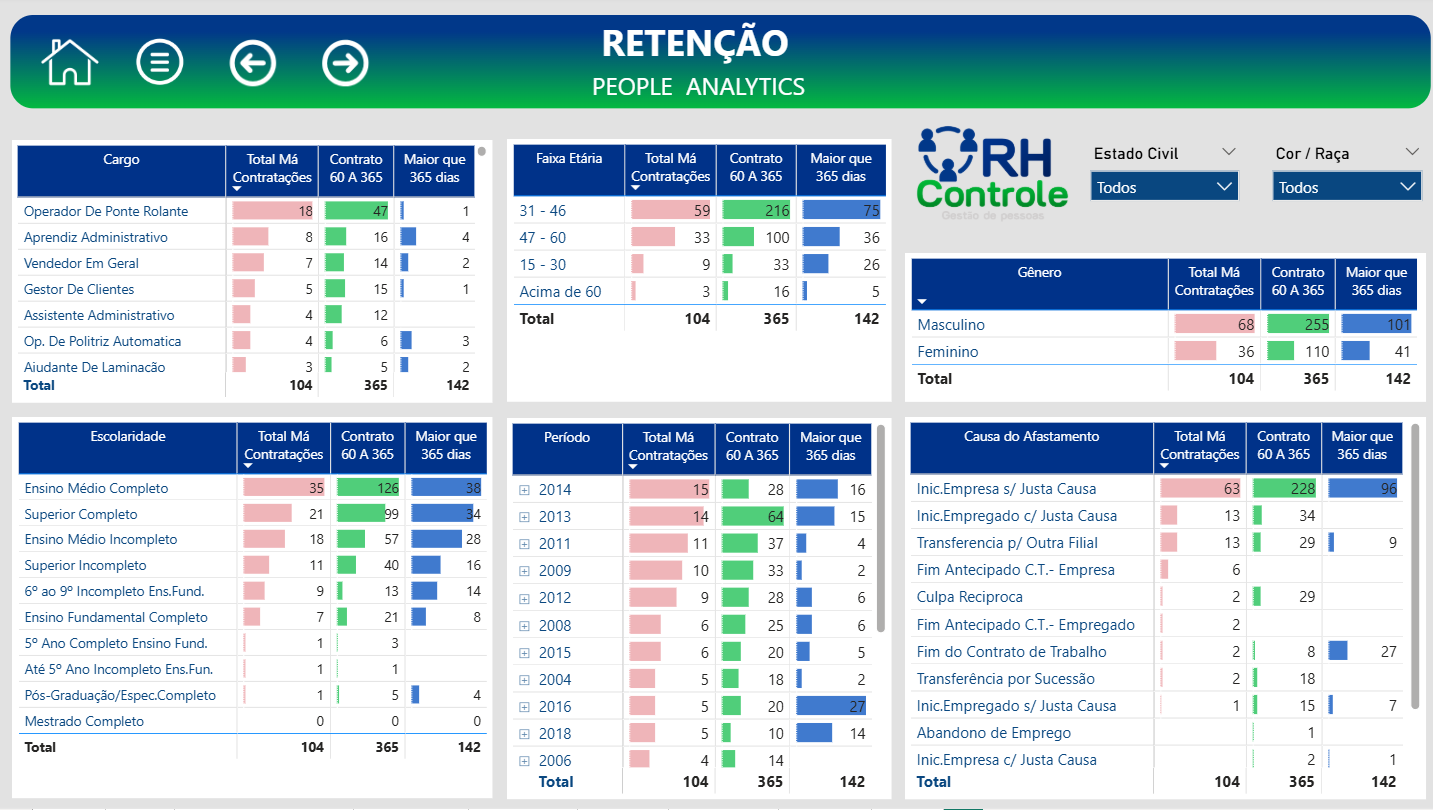

This screenshot's page, from the dashboard's own definition file:
{"tool":"powerbi","page":{"name":"Retenção","canvas":[1280,720],"ordinal":5},"visuals":[{"type":"tableEx","fields":{"Values":["dSexo.SEXO","Medidas_Funcionarios.Total Má Contratações","Medidas_Funcionarios.Contrato 60 A 365","Medidas_Funcionarios.Maior que 365 dias"]},"box":[804.3,227,461.8,132.3],"z":0},{"type":"tableEx","fields":{"Values":["dFaixa_Etária.FAIXA ETÁRIA","Medidas_Funcionarios.Total Má Contratações","Medidas_Funcionarios.Contrato 60 A 365","Medidas_Funcionarios.Maior que 365 dias"]},"box":[451.8,126.2,341.3,233.4],"z":1000},{"type":"pivotTable","fields":{"Rows":["dAfastamento.TIPO AFASTAMENTO","dCausa_Afastamento.Causa Afastamento"],"Values":["Medidas_Funcionarios.Total Má Contratações","Medidas_Funcionarios.Contrato 60 A 365","Medidas_Funcionarios.Maior que 365 dias"]},"box":[804.3,372.3,461.8,338.6],"z":2000},{"type":"pivotTable","fields":{"Rows":["dCalendario.ANO","dCalendario.MÊS ABREVIADO"],"Values":["Medidas_Funcionarios.Total Má Contratações","Medidas_Funcionarios.Contrato 60 A 365","Medidas_Funcionarios.Maior que 365 dias"]},"box":[451.8,372.9,341.3,338],"z":3000},{"type":"tableEx","fields":{"Values":["dEscolaridade.Escolaridade","Medidas_Funcionarios.Total Má Contratações","Medidas_Funcionarios.Contrato 60 A 365","Medidas_Funcionarios.Maior que 365 dias"]},"box":[12.2,372.7,426,338],"z":4000},{"type":"pivotTable","fields":{"Rows":["Funcionarios.Tipo Contrato","dCargos.Cargo"],"Values":["Medidas_Funcionarios.Total Má Contratações","Medidas_Funcionarios.Contrato 60 A 365","Medidas_Funcionarios.Maior que 365 dias"]},"box":[12.2,126.4,426,233.2],"z":5000},{"type":"textbox","box":[443.4,12.8,349.3,74.1],"z":6000},{"type":"textbox","box":[493.3,58.8,256.6,45.3],"z":7000},{"type":"slicer","fields":{"Values":["dEstadoCivil.Estado Civil"]},"box":[958.7,125.8,151.8,66.2],"z":9000},{"type":"slicer","fields":{"Values":["dRaca.Raça"]},"box":[1119.6,125.8,153.1,66.2],"z":10000},{"type":"image","box":[804.3,96,154.4,125.8],"z":11000},{"type":"actionButton","box":[35,27.2,58.4,66.2],"z":12000},{"type":"actionButton","box":[116.7,25.9,53.7,64.8],"z":13000},{"type":"actionButton","box":[281.6,25.9,57.4,68.5],"z":14000},{"type":"actionButton","box":[200.1,25.9,53.7,68.5],"z":15000}]}

Visuals, with their boxes in screenshot pixels (x1, y1, x2, y2), scaled from the page's 1280x720 canvas onto the 1433x810 screenshot:
tableEx - dSexo.SEXO x Medidas_Funcionarios.Total Má Contratações: bbox(900, 255, 1417, 404)
tableEx - dFaixa_Etária.FAIXA ETÁRIA x Medidas_Funcionarios.Total Má Contratações: bbox(506, 142, 888, 405)
pivotTable - dAfastamento.TIPO AFASTAMENTO x dCausa_Afastamento.Causa Afastamento: bbox(900, 419, 1417, 800)
pivotTable - dCalendario.ANO x dCalendario.MÊS ABREVIADO: bbox(506, 420, 888, 800)
tableEx - dEscolaridade.Escolaridade x Medidas_Funcionarios.Total Má Contratações: bbox(14, 419, 491, 800)
pivotTable - Funcionarios.Tipo Contrato x dCargos.Cargo: bbox(14, 142, 491, 405)
textbox: bbox(496, 14, 887, 98)
textbox: bbox(552, 66, 840, 117)
slicer - dEstadoCivil.Estado Civil: bbox(1073, 142, 1243, 216)
slicer - dRaca.Raça: bbox(1253, 142, 1425, 216)
image: bbox(900, 108, 1073, 250)
actionButton: bbox(39, 31, 105, 105)
actionButton: bbox(131, 29, 191, 102)
actionButton: bbox(315, 29, 380, 106)
actionButton: bbox(224, 29, 284, 106)
